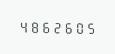eight: (28, 19, 38, 33)
five: (83, 20, 93, 34)
four: (17, 19, 27, 33)
six: (39, 19, 49, 33), (61, 20, 71, 34)
two: (50, 19, 60, 34)
zero: (72, 20, 82, 34)
